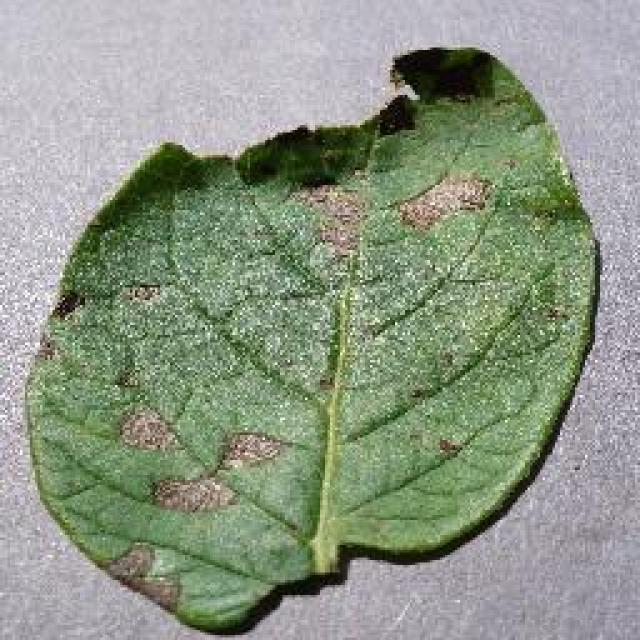early_blight: (20, 40, 605, 638)
